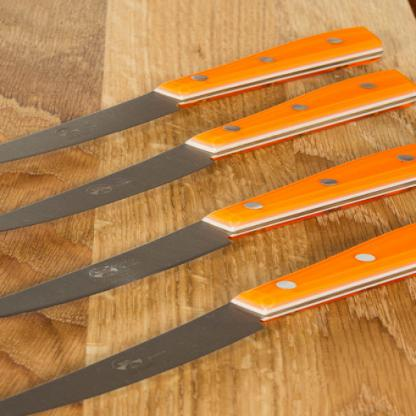knife: (0, 204, 415, 415), (0, 134, 415, 332), (0, 59, 415, 235), (0, 14, 388, 174)
